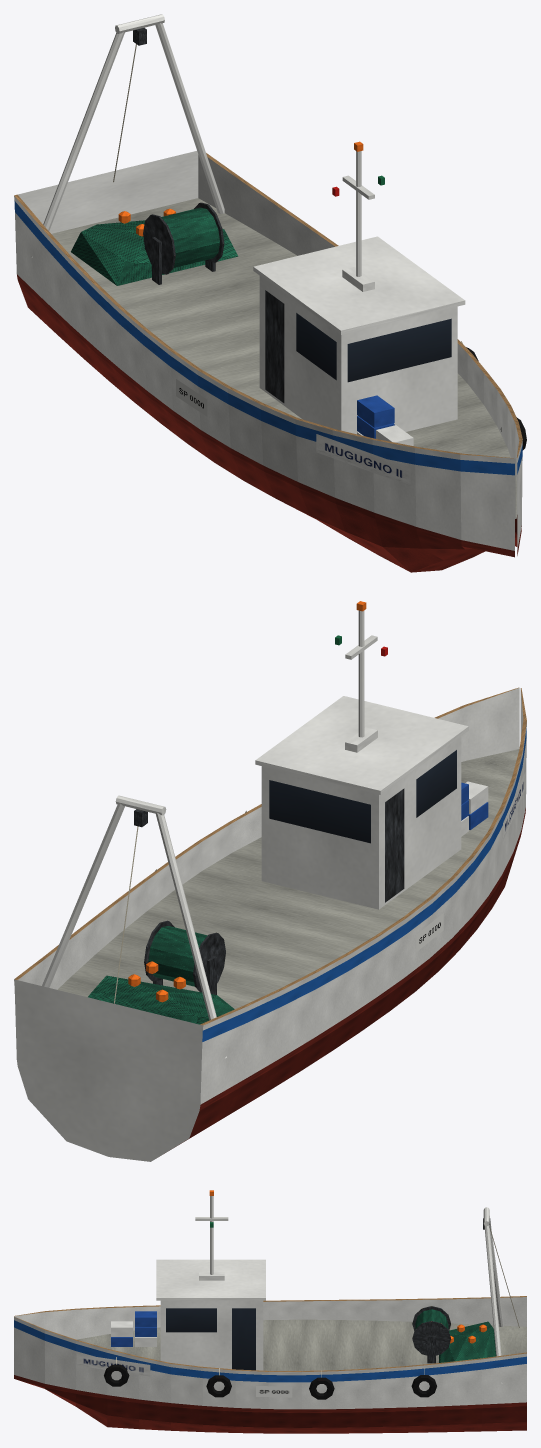
File: SM_Molo_Peschereccio14.fbx
3 views of the same model, one above another, from view 1: azimuth 30°, elevation 25°; view 2: azimuth 150°, elevation 25°; view 3: azimuth 270°, elevation 25° (orthographic). The views are drawn at different scales.
Visible parts, largest first — view 1: SM_Molo_Peschereccio14; view 2: SM_Molo_Peschereccio14; view 3: SM_Molo_Peschereccio14.
Boxes of the visible parts, bbox=[...] form: SM_Molo_Peschereccio14: bbox=[14, 14, 526, 572]; SM_Molo_Peschereccio14: bbox=[14, 601, 526, 1161]; SM_Molo_Peschereccio14: bbox=[14, 1190, 526, 1433].
Bounding box in the file's own units: 485 × 1400 × 692.
Materials: 1 (1 with a texture image).
